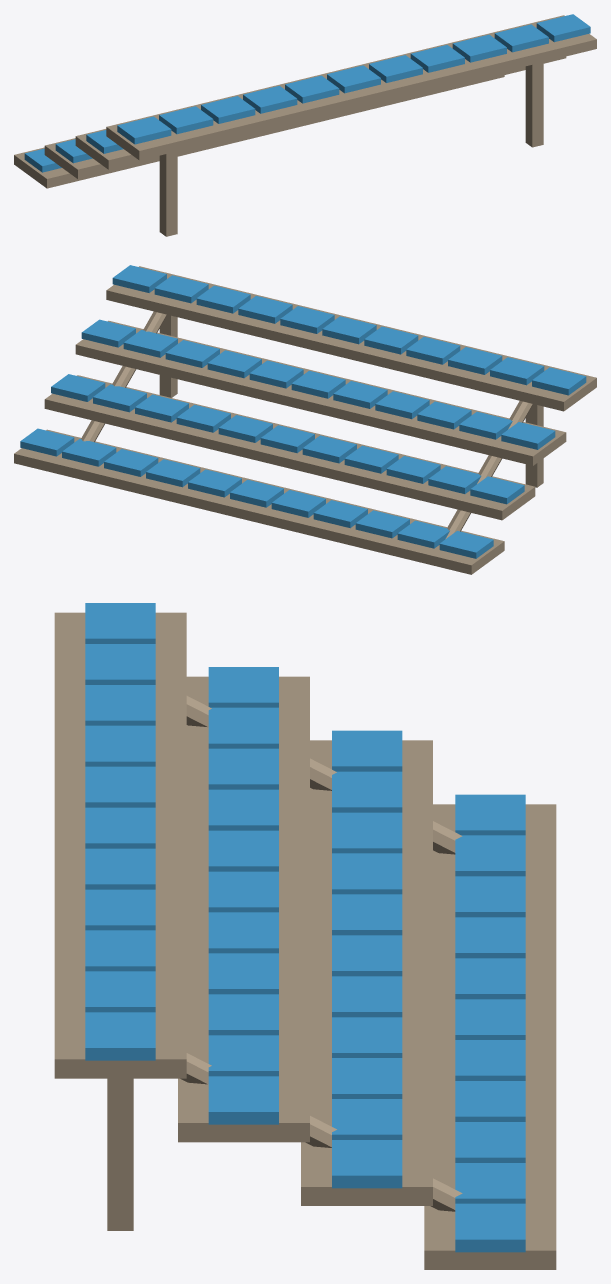
Rendered from stock-car-oval-speedway-backstretch-bleacher-fb0d6f85__16930.glb.
3 views of the same model, one above another, from view 1: azimuth 30°, elevation 25°; view 2: azimuth 150°, elevation 25°; view 3: azimuth 270°, elevation 25° (orthographic). The views are drawn at different scales.
Parts seen in each view (by area): view 1: backstretch-bleacher; view 2: backstretch-bleacher; view 3: backstretch-bleacher.
Boxes of the visible parts, left/top/right/bottom form: backstretch-bleacher: left=14, top=14, right=596, bottom=236; backstretch-bleacher: left=14, top=265, right=596, bottom=574; backstretch-bleacher: left=54, top=603, right=556, bottom=1269.
Bounding box in the file's own units: 6.02 × 1.45 × 2.85.
